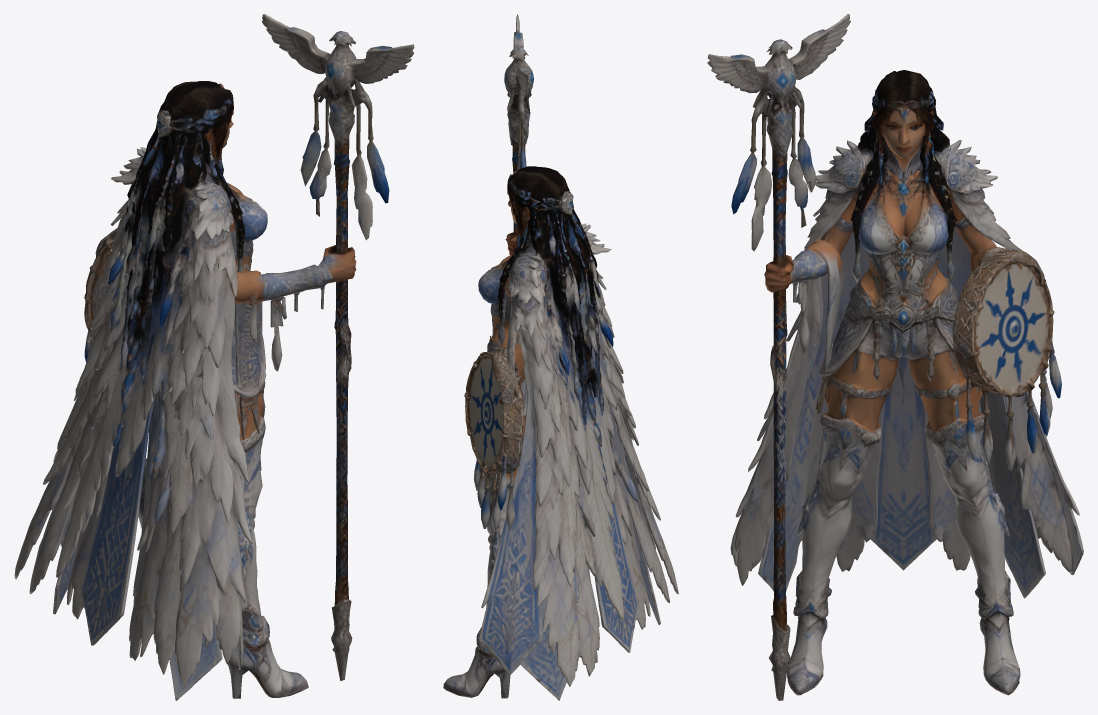
File: drumcaller2_T7-tripo.glb
3 renders of one model, left to right at view 1: azimuth 30°, elevation 25°; view 2: azimuth 150°, elevation 25°; view 3: azimuth 270°, elevation 25°, orthographic. The views are drawn at different scales.
Parts seen in each view (by area): view 1: tripo_node_ed7b21a2-1789-4f17-bed1-13ec9ec9220e; view 2: tripo_node_ed7b21a2-1789-4f17-bed1-13ec9ec9220e; view 3: tripo_node_ed7b21a2-1789-4f17-bed1-13ec9ec9220e.
Boxes of the visible parts, bbox=[...] form: tripo_node_ed7b21a2-1789-4f17-bed1-13ec9ec9220e: bbox=[14, 14, 414, 700]; tripo_node_ed7b21a2-1789-4f17-bed1-13ec9ec9220e: bbox=[443, 14, 678, 700]; tripo_node_ed7b21a2-1789-4f17-bed1-13ec9ec9220e: bbox=[707, 14, 1083, 700].
Bounding box in the file's own units: 0.3819 × 1 × 0.5069.
1 material, 1 textured.
